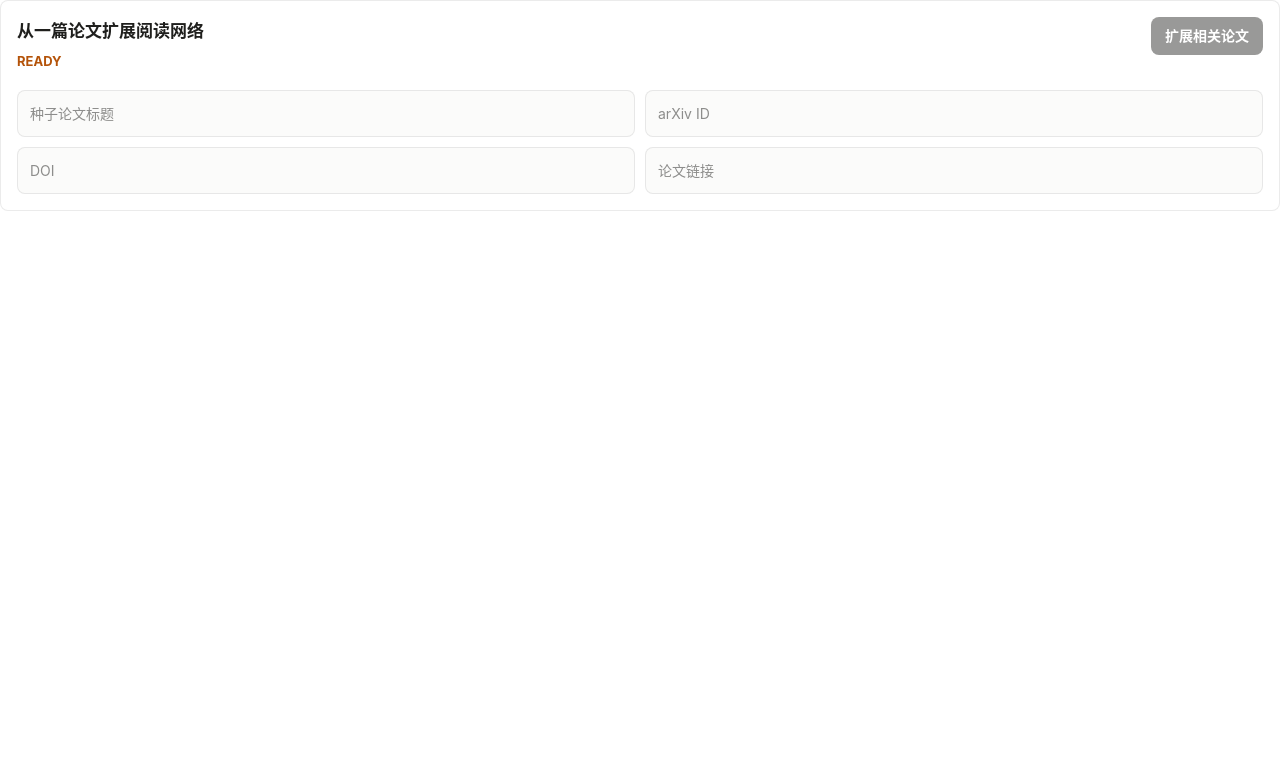
SeedExpansionPanel › expands a seed and renders relation groups
This screenshot has width=1280, height=780.
Type "Time Series Anomaly Detection" into the field with test id "seed-title-input". click: (326, 113)
box: x1=17 y1=90 x2=635 y2=137
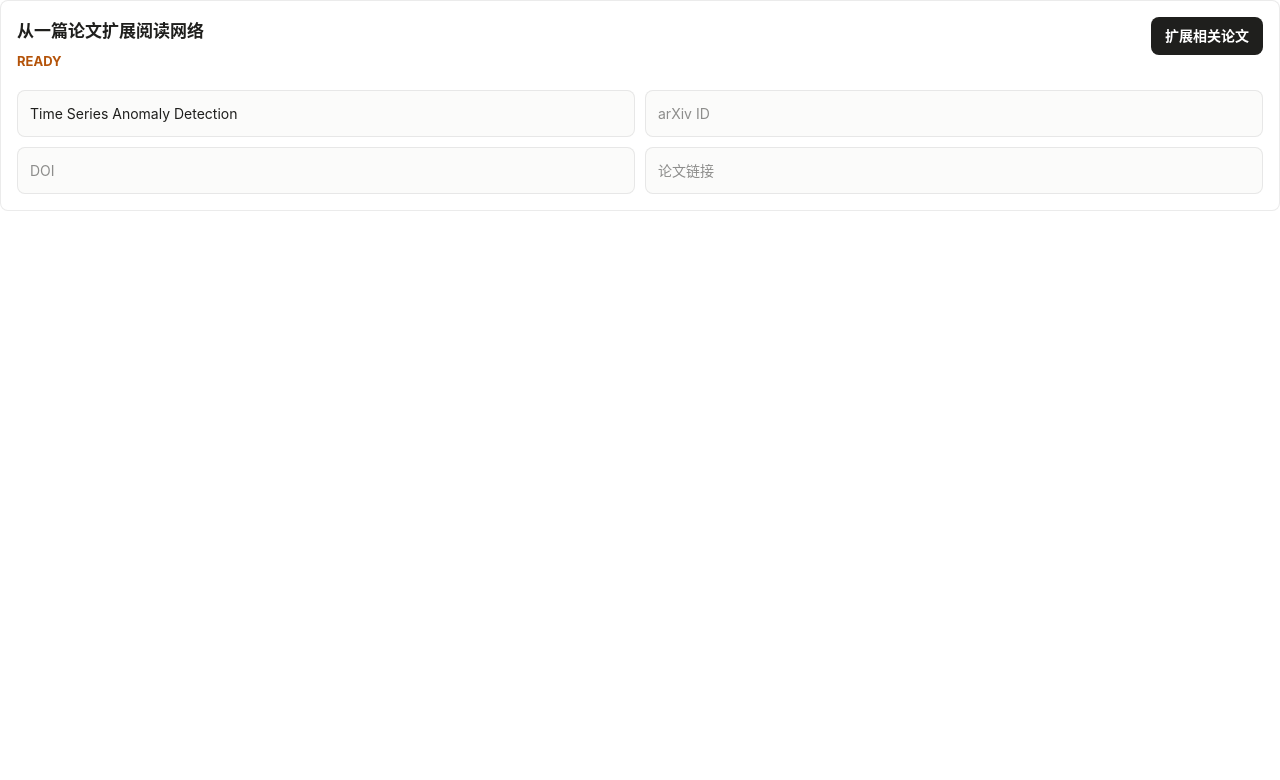
Click the button with test id "seed-expand-button". click: (1207, 36)
box: x1=1151 y1=17 x2=1263 y2=55
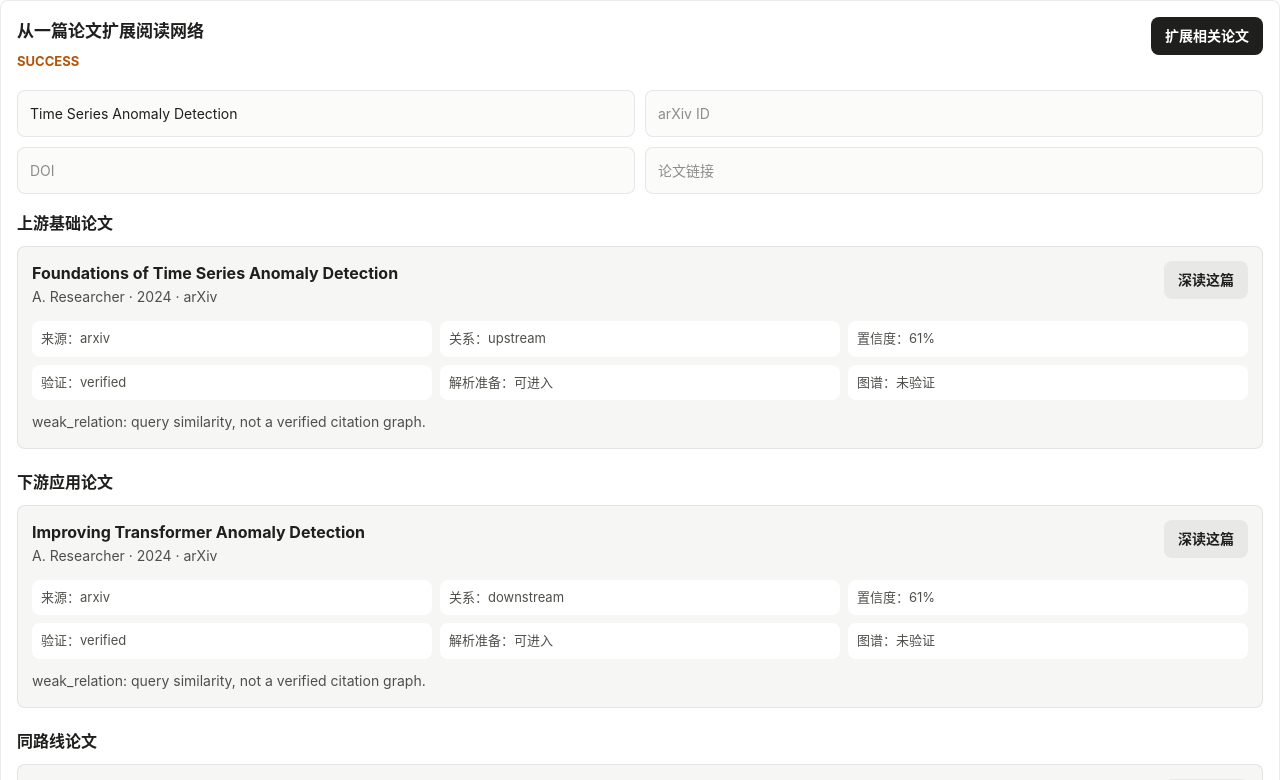
Check: the text with test id "seed-status" reads "SUCCESS", box x1=17 y1=53 x2=79 y2=69
Check: the element with test id "seed-group-upstream_papers" shows "Foundations", box x1=32 y1=263 x2=398 y2=283
Check: the element with test id "seed-group-downstream_papers" shows "Improving", box x1=32 y1=522 x2=365 y2=542
